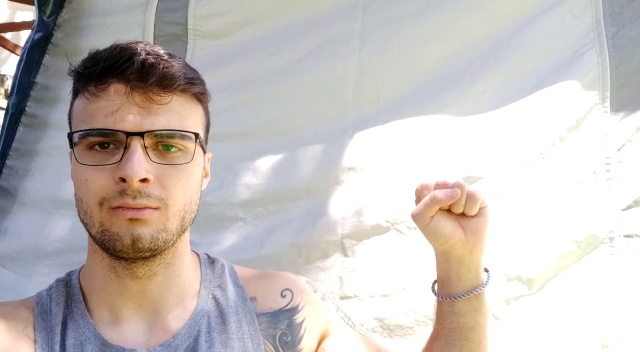Fist: (411, 180, 489, 257)
